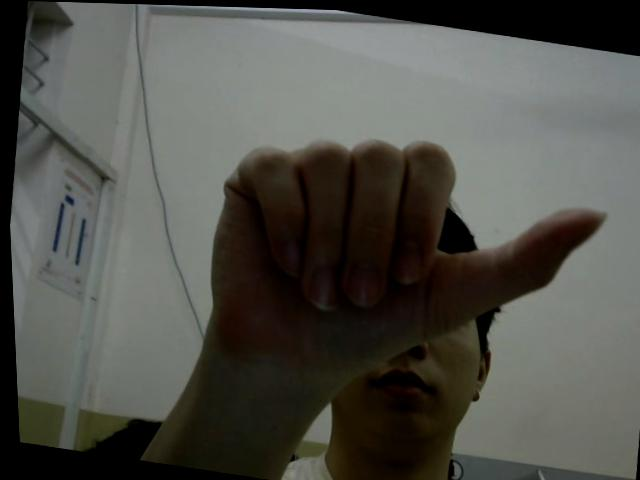A: (191, 104, 620, 397)
